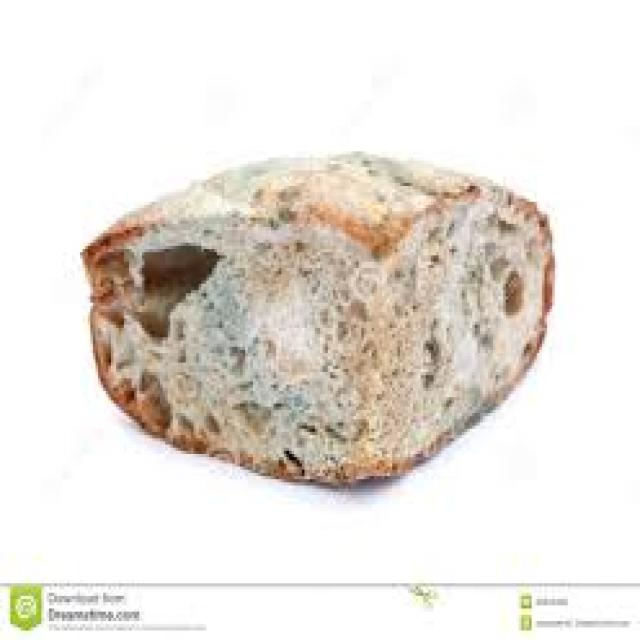organic waste: (80, 148, 552, 479)
